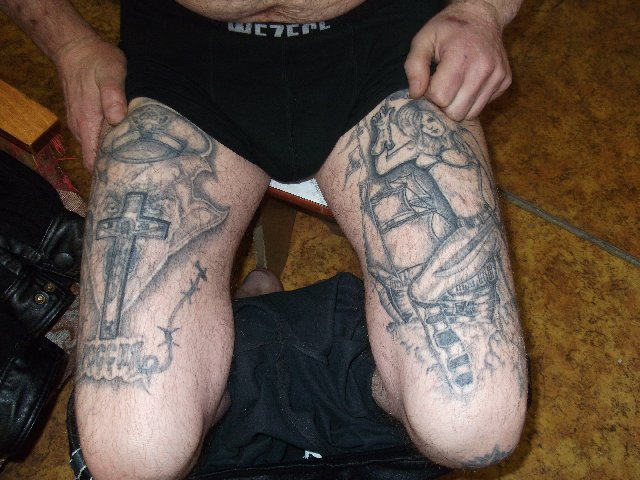tatu9_krest: (96, 190, 158, 344)
